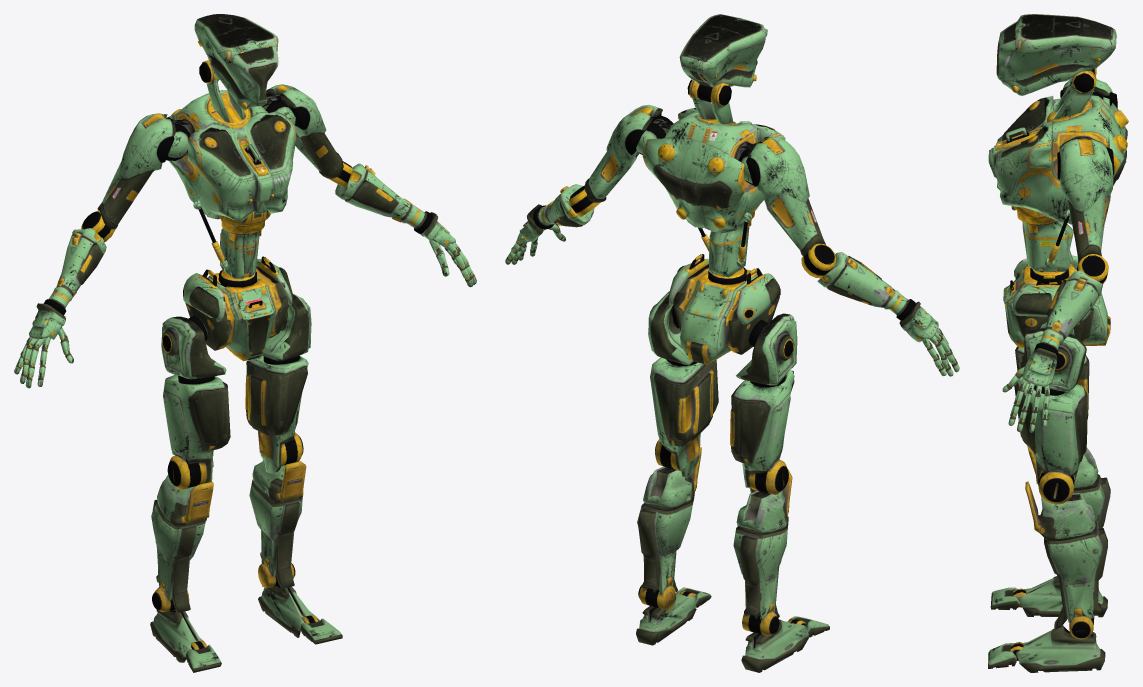
The model's file is Humanoid Robot GSR050 Low-poly 3D model.obj.
The picture shows the model from 3 angles, left to right: view 1: azimuth 30°, elevation 25°; view 2: azimuth 150°, elevation 25°; view 3: azimuth 270°, elevation 25°; orthographic projection.
Parts seen in each view (by area): view 1: desirefx_me_1; view 2: desirefx_me_1; view 3: desirefx_me_1.
Part boxes in pixels (<box>): desirefx_me_1: <box>14,14,476,672</box>; desirefx_me_1: <box>505,14,959,672</box>; desirefx_me_1: <box>988,14,1128,672</box>.
Size of the model in its own units: 7.64 by 10 by 2.07.
